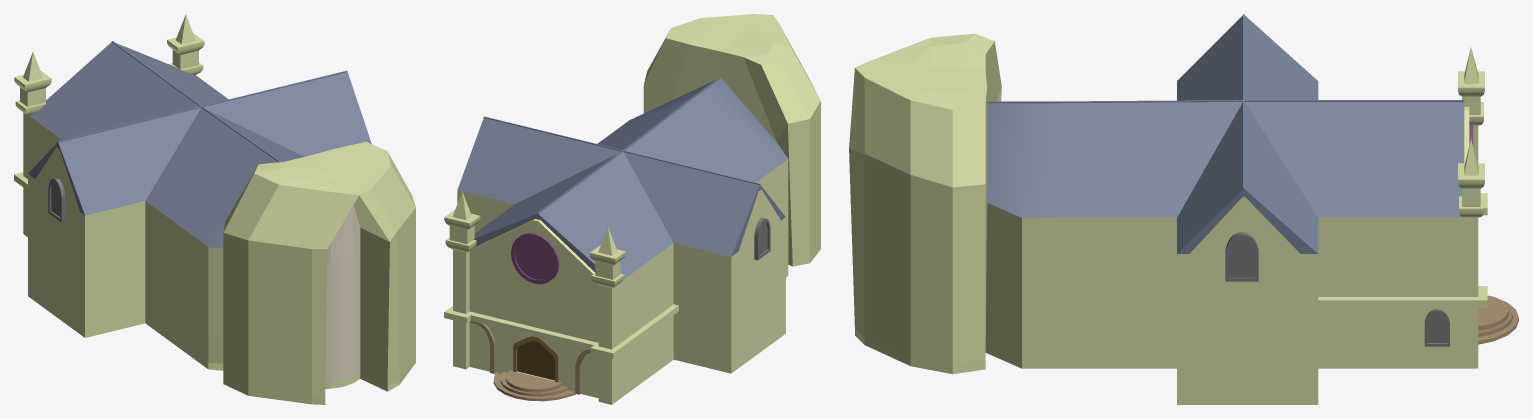
Rendered from Iglesia 1.fbx.
3 renders of one model, left to right at view 1: azimuth 30°, elevation 25°; view 2: azimuth 150°, elevation 25°; view 3: azimuth 270°, elevation 25°, orthographic. The views are drawn at different scales.
Parts seen in each view (by area): view 1: Iglesia_Entera, Techo, Salida_Oculta, Delante_CosaRara, Ventana_1Piso3; view 2: Iglesia_Entera, Techo, Ventana_Cicular, Escalones_entrada, Marco_detalle_entrada, Puerta_izq, Ventana_1Piso3, Puerta_der, Marco_Puerta; view 3: Iglesia_Entera, Techo, Ventana_1Piso2, Escalones_entrada, Ventana_1Piso.
Part boxes in pixels (x1,y1,x2,y2): Iglesia_Entera: [14, 14, 415, 404]; Techo: [28, 41, 371, 248]; Salida_Oculta: [325, 253, 360, 382]; Delante_CosaRara: [327, 205, 360, 264]; Ventana_1Piso3: [48, 178, 65, 222]; Iglesia_Entera: [444, 14, 820, 404]; Techo: [457, 77, 787, 278]; Ventana_Cicular: [511, 233, 559, 284]; Escalones_entrada: [493, 370, 575, 401]; Marco_detalle_entrada: [469, 321, 590, 394]; Puerta_izq: [517, 340, 536, 375]; Ventana_1Piso3: [754, 217, 770, 260]; Puerta_der: [536, 341, 554, 380]; Marco_Puerta: [513, 336, 558, 382]; Iglesia_Entera: [849, 33, 1487, 404]; Techo: [987, 14, 1464, 253]; Ventana_1Piso2: [1225, 232, 1258, 281]; Escalones_entrada: [1478, 295, 1518, 344]; Ventana_1Piso: [1424, 309, 1449, 346].
Size of the model in its own units: 85.93 by 57.57 by 137.
